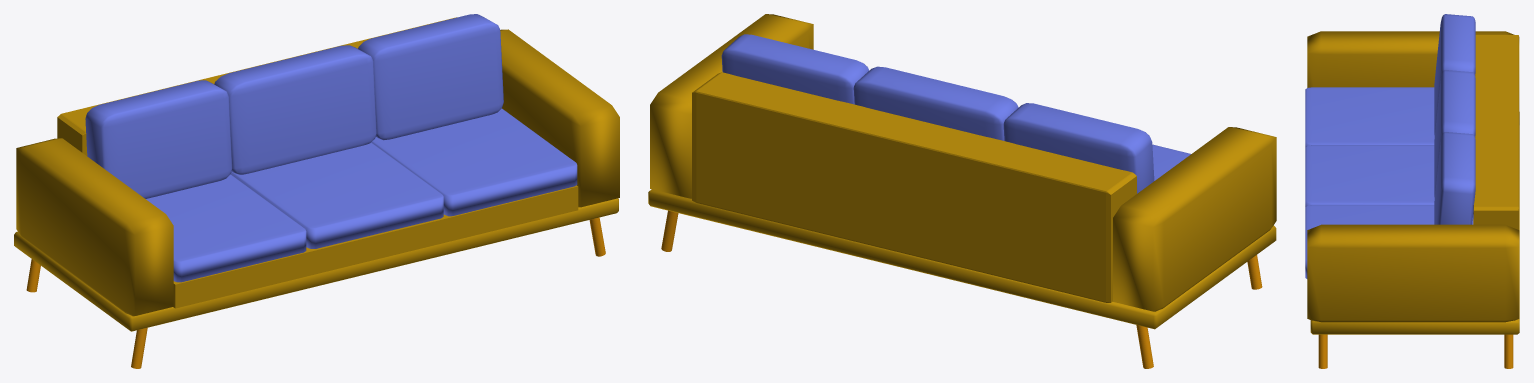
Rendered from Koltuk.glb.
The picture shows the model from 3 angles, left to right: view 1: azimuth 30°, elevation 25°; view 2: azimuth 150°, elevation 25°; view 3: azimuth 270°, elevation 25°; orthographic projection. The views are drawn at different scales.
Visible parts, largest first — view 1: Cube.003, Cube, Cube.009, Cube.008, Cube.007, Cube.005, Cube.006, Cube.001, Cube.002, Cube.004, Cylinder; view 2: Cube.004, Cube.003, Cube, Cube.001, Cube.009, Cube.007, Cube.008, Cylinder, Cube.002; view 3: Cube.001, Cube.004, Cube.005, Cube.003, Cube.002, Cube.008, Cube, Cube.006, Cube.009, Cube.007, Cylinder.001.
Boxes of the visible parts, bbox=[...] form: Cube.003: bbox=[16, 138, 173, 316]; Cube: bbox=[14, 185, 618, 331]; Cube.009: bbox=[214, 45, 376, 174]; Cube.008: bbox=[358, 14, 503, 140]; Cube.007: bbox=[85, 80, 232, 198]; Cube.005: bbox=[231, 142, 443, 248]; Cube.006: bbox=[371, 108, 577, 216]; Cube.001: bbox=[500, 29, 619, 207]; Cube.002: bbox=[146, 174, 306, 282]; Cube.004: bbox=[57, 17, 456, 155]; Cylinder: bbox=[26, 259, 147, 368]; Cube.004: bbox=[692, 72, 1136, 302]; Cube.003: bbox=[1113, 127, 1276, 311]; Cube: bbox=[648, 189, 1276, 329]; Cube.001: bbox=[650, 14, 813, 198]; Cube.009: bbox=[853, 66, 1018, 140]; Cube.007: bbox=[1003, 103, 1154, 193]; Cube.008: bbox=[721, 34, 869, 104]; Cylinder: bbox=[1136, 255, 1262, 368]; Cube.002: bbox=[1152, 144, 1190, 180]; Cube.001: bbox=[1307, 224, 1519, 322]; Cube.004: bbox=[1473, 35, 1518, 229]; Cube.005: bbox=[1305, 145, 1473, 218]; Cube.003: bbox=[1307, 31, 1519, 124]; Cube.002: bbox=[1305, 87, 1434, 146]; Cube.008: bbox=[1434, 132, 1475, 224]; Cube: bbox=[1310, 112, 1519, 334]; Cube.006: bbox=[1305, 205, 1473, 278]; Cube.009: bbox=[1434, 70, 1475, 197]; Cube.007: bbox=[1434, 14, 1475, 135]; Cylinder.001: bbox=[1318, 334, 1513, 368].
Size of the model in its own units: 2 by 0.7519 by 0.8519.
